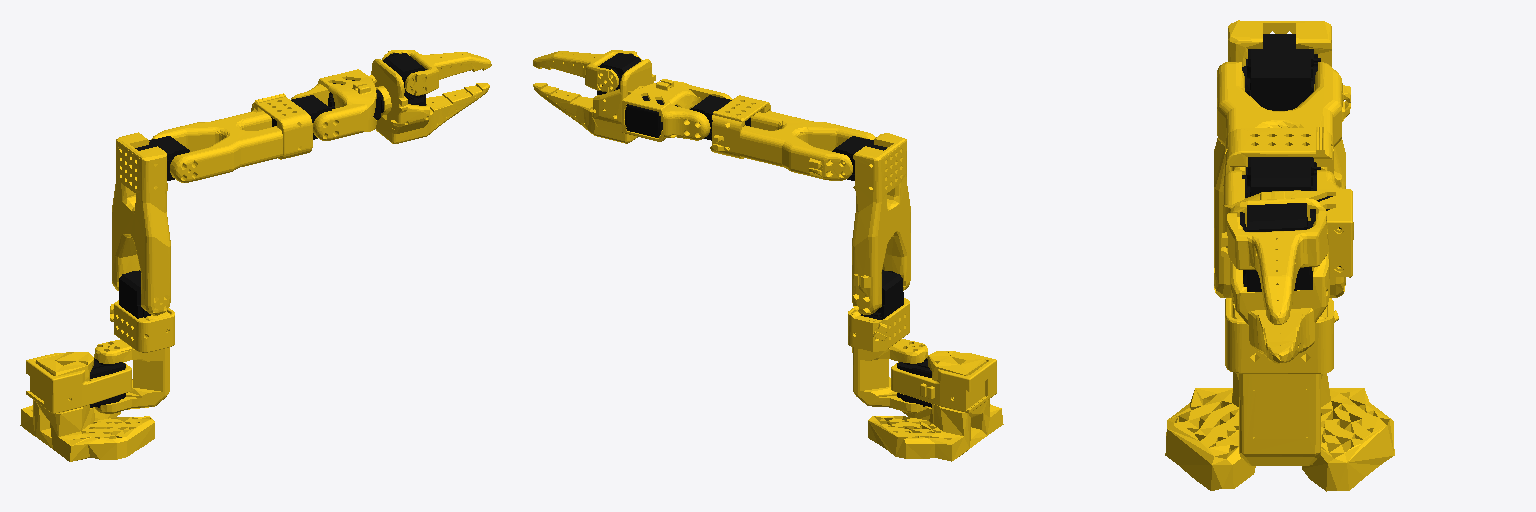
URDF robot description (so101_new_calib):
<?xml version="1.0" encoding="utf-8"?>
<!-- Generated using onshape-to-robot -->
<!-- Onshape https://cad.onshape.com/documents/7715cc284bb430fe6dab4ffd/w/4fd0791b683777b02f8d975a/e/826c553ede3b7592eb9ca800 -->
<robot name="so101_new_calib">

  <!-- Materials -->
  <material name="3d_printed">
    <color rgba="1.0 0.82 0.12 1.0"/>
  </material>
  <material name="sts3215">
    <color rgba="0.1 0.1 0.1 1.0"/>
  </material>

  <!-- Link base -->
  <link name="base_link">
    <inertial>
      <origin xyz="0.0137179 -5.19711e-05 0.0334843" rpy="0 0 0"/>
      <mass value="0.147"/>
      <inertia ixx="0.000114686" ixy="-4.59787e-07" ixz="4.97151e-06" iyy="0.000136117" iyz="9.75275e-08" izz="0.000130364"/>
    </inertial>
    <!-- Part base_motor_holder_so101_v1 -->
    <visual>
      <origin xyz="-0.00636471 -9.94414e-05 -0.0024" rpy="1.5708 -1.67685e-15 1.5708"/>
      <geometry>
        <mesh filename="assets/base_motor_holder_so101_v1_lp.stl"/>
      </geometry>
      <material name="3d_printed"/>
    </visual>
    <collision>
      <origin xyz="-0.00636471 -9.94414e-05 -0.0024" rpy="1.5708 -1.67685e-15 1.5708"/>
      <geometry>
        <mesh filename="assets/base_motor_holder_so101_v1.stl"/>
      </geometry>
    </collision>
    <!-- Part base_so101_v2 -->
    <visual>
      <origin xyz="-0.00636471 -8.97657e-09 -0.0024" rpy="1.5708 -2.78073e-29 1.5708"/>
      <geometry>
        <mesh filename="assets/base_so101_v2_lp.stl"/>
      </geometry>
      <material name="3d_printed"/>
    </visual>
    <collision>
      <origin xyz="-0.00636471 -8.97657e-09 -0.0024" rpy="1.5708 -2.78073e-29 1.5708"/>
      <geometry>
        <mesh filename="assets/base_so101_v2.stl"/>
      </geometry>
    </collision>
    <!-- Part sts3215_03a_v1 -->
    <visual>
      <origin xyz="0.0263353 -8.97657e-09 0.0437" rpy="-8.21148e-16 7.84513e-18 1.249e-15"/>
      <geometry>
        <mesh filename="assets/sts3215_03a_v1_lp.stl"/>
      </geometry>
      <material name="sts3215"/>
    </visual>
    <collision>
      <origin xyz="0.0263353 -8.97657e-09 0.0437" rpy="-8.21148e-16 7.84513e-18 1.249e-15"/>
      <geometry>
        <mesh filename="assets/sts3215_03a_v1.stl"/>
      </geometry>
    </collision>
    <!-- Part waveshare_mounting_plate_so101_v2 -->
    <visual>
      <origin xyz="-0.0309827 -0.000199441 0.0474" rpy="1.5708 -1.35493e-14 1.5708"/>
      <geometry>
        <mesh filename="assets/waveshare_mounting_plate_so101_v2.stl"/>
      </geometry>
      <material name="3d_printed"/>
    </visual>
    <collision>
      <origin xyz="-0.0309827 -0.000199441 0.0474" rpy="1.5708 -1.35493e-14 1.5708"/>
      <geometry>
        <mesh filename="assets/waveshare_mounting_plate_so101_v2.stl"/>
      </geometry>
    </collision>
  </link>

  <!-- Link shoulder -->
  <link name="shoulder_link">
    <inertial>
      <origin xyz="-0.0307604 -1.66727e-05 -0.0252713" rpy="0 0 0"/>
      <mass value="0.100006"/>
      <inertia ixx="8.3759e-05" ixy="7.55525e-08" ixz="-1.16342e-06" iyy="8.10403e-05" iyz="1.54663e-07" izz="2.39783e-05"/>
    </inertial>
    <!-- Part sts3215_03a_v1_2 -->
    <visual>
      <origin xyz="-0.0303992 0.000422241 -0.0417" rpy="1.5708 1.5708 0"/>
      <geometry>
        <mesh filename="assets/sts3215_03a_v1_lp.stl"/>
      </geometry>
      <material name="sts3215"/>
    </visual>
    <collision>
      <origin xyz="-0.0303992 0.000422241 -0.0417" rpy="1.5708 1.5708 0"/>
      <geometry>
        <mesh filename="assets/sts3215_03a_v1.stl"/>
      </geometry>
    </collision>
    <!-- Part motor_holder_so101_base_v1 -->
    <visual>
      <origin xyz="-0.0675992 -0.000177759 0.0158499" rpy="1.5708 -1.5708 0"/>
      <geometry>
        <mesh filename="assets/motor_holder_so101_base_v1_lp.stl"/>
      </geometry>
      <material name="3d_printed"/>
    </visual>
    <collision>
      <origin xyz="-0.0675992 -0.000177759 0.0158499" rpy="1.5708 -1.5708 0"/>
      <geometry>
        <mesh filename="assets/motor_holder_so101_base_v1.stl"/>
      </geometry>
    </collision>
    <!-- Part rotation_pitch_so101_v1 -->
    <visual>
      <origin xyz="0.0122008 2.22413e-05 0.0464" rpy="-1.5708 2.35221e-33 0"/>
      <geometry>
        <mesh filename="assets/rotation_pitch_so101_v1_lp.stl"/>
      </geometry>
      <material name="3d_printed"/>
    </visual>
    <collision>
      <origin xyz="0.0122008 2.22413e-05 0.0464" rpy="-1.5708 2.35221e-33 0"/>
      <geometry>
        <mesh filename="assets/rotation_pitch_so101_v1.stl"/>
      </geometry>
    </collision>
  </link>

  <!-- Link upper_arm -->
  <link name="upper_arm_link">
    <inertial>
      <origin xyz="-0.0898471 -0.00838224 0.0184089" rpy="0 0 0"/>
      <mass value="0.103"/>
      <inertia ixx="4.08002e-05" ixy="-1.97819e-05" ixz="-4.03016e-08" iyy="0.000147318" iyz="8.97326e-09" izz="0.000142487"/>
    </inertial>
    <!-- Part sts3215_03a_v1_3 -->
    <visual>
      <origin xyz="-0.11257 -0.0155 0.0187" rpy="-3.14159 -5.27356e-16 -1.5708"/>
      <geometry>
        <mesh filename="assets/sts3215_03a_v1_lp.stl"/>
      </geometry>
      <material name="sts3215"/>
    </visual>
    <collision>
      <origin xyz="-0.11257 -0.0155 0.0187" rpy="-3.14159 -5.27356e-16 -1.5708"/>
      <geometry>
        <mesh filename="assets/sts3215_03a_v1.stl"/>
      </geometry>
    </collision>
    <!-- Part upper_arm_so101_v1 -->
    <visual>
      <origin xyz="-0.065085 0.012 0.0182" rpy="3.14159 -0 -1.30911e-30"/>
      <geometry>
        <mesh filename="assets/upper_arm_so101_v1_lp.stl"/>
      </geometry>
      <material name="3d_printed"/>
    </visual>
    <collision>
      <origin xyz="-0.065085 0.012 0.0182" rpy="3.14159 -0 -1.30911e-30"/>
      <geometry>
        <mesh filename="assets/upper_arm_so101_v1.stl"/>
      </geometry>
    </collision>
  </link>

  <!-- Link lower_arm -->
  <link name="lower_arm_link">
    <inertial>
      <origin xyz="-0.0980701 0.00324376 0.0182831" rpy="0 0 0"/>
      <mass value="0.104"/>
      <inertia ixx="2.87438e-05" ixy="7.41152e-06" ixz="1.26409e-06" iyy="0.000159844" iyz="-4.90188e-08" izz="0.00014529"/>
    </inertial>
    <!-- Part under_arm_so101_v1 -->
    <visual>
      <origin xyz="-0.0648499 -0.032 0.0182" rpy="3.14159 -0 6.67202e-31"/>
      <geometry>
        <mesh filename="assets/under_arm_so101_v1_lp.stl"/>
      </geometry>
      <material name="3d_printed"/>
    </visual>
    <collision>
      <origin xyz="-0.0648499 -0.032 0.0182" rpy="3.14159 -0 6.67202e-31"/>
      <geometry>
        <mesh filename="assets/under_arm_so101_v1.stl"/>
      </geometry>
    </collision>
    <!-- Part motor_holder_so101_wrist_v1 -->
    <visual>
      <origin xyz="-0.0648499 -0.032 0.018" rpy="-3.14159 -2.55351e-15 -1.83387e-30"/>
      <geometry>
        <mesh filename="assets/motor_holder_so101_wrist_v1_lp.stl"/>
      </geometry>
      <material name="3d_printed"/>
    </visual>
    <collision>
      <origin xyz="-0.0648499 -0.032 0.018" rpy="-3.14159 -2.55351e-15 -1.83387e-30"/>
      <geometry>
        <mesh filename="assets/motor_holder_so101_wrist_v1.stl"/>
      </geometry>
    </collision>
    <!-- Part sts3215_03a_v1_4 -->
    <visual>
      <origin xyz="-0.1224 0.0052 0.0187" rpy="-3.14159 -7.88861e-31 -3.14159"/>
      <geometry>
        <mesh filename="assets/sts3215_03a_v1_lp.stl"/>
      </geometry>
      <material name="sts3215"/>
    </visual>
    <collision>
      <origin xyz="-0.1224 0.0052 0.0187" rpy="-3.14159 -7.88861e-31 -3.14159"/>
      <geometry>
        <mesh filename="assets/sts3215_03a_v1.stl"/>
      </geometry>
    </collision>
  </link>

  <!-- Link wrist -->
  <link name="wrist_link">
    <inertial>
      <origin xyz="-0.000103312 -0.0386143 0.0281156" rpy="0 0 0"/>
      <mass value="0.079"/>
      <inertia ixx="3.68263e-05" ixy="1.7893e-08" ixz="-5.28128e-08" iyy="2.5391e-05" iyz="3.6412e-06" izz="2.1e-05"/>
    </inertial>
    <!-- Part sts3215_03a_no_horn_v1 -->
    <visual>
      <origin xyz="8.32667e-17 -0.0424 0.0306" rpy="1.5708 1.5708 0"/>
      <geometry>
        <mesh filename="assets/sts3215_03a_no_horn_v1_lp.stl"/>
      </geometry>
      <material name="sts3215"/>
    </visual>
    <collision>
      <origin xyz="8.32667e-17 -0.0424 0.0306" rpy="1.5708 1.5708 0"/>
      <geometry>
        <mesh filename="assets/sts3215_03a_no_horn_v1.stl"/>
      </geometry>
    </collision>
    <!-- Part wrist_roll_pitch_so101_v2 -->
    <visual>
      <origin xyz="0 -0.028 0.0181" rpy="-1.5708 -1.5708 0"/>
      <geometry>
        <mesh filename="assets/wrist_roll_pitch_so101_v2_lp.stl"/>
      </geometry>
      <material name="3d_printed"/>
    </visual>
    <collision>
      <origin xyz="0 -0.028 0.0181" rpy="-1.5708 -1.5708 0"/>
      <geometry>
        <mesh filename="assets/wrist_roll_pitch_so101_v2.stl"/>
      </geometry>
    </collision>
  </link>

  <!-- Link gripper -->
  <link name="gripper_link">
    <inertial>
      <origin xyz="0.000213627 0.000245138 -0.025187" rpy="0 0 0"/>
      <mass value="0.087"/>
      <inertia ixx="2.75087e-05" ixy="-3.35241e-07" ixz="-5.7352e-06" iyy="4.33657e-05" iyz="-5.17847e-08" izz="3.45059e-05"/>
    </inertial>
    <!-- Part sts3215_03a_v1_5 -->
    <visual>
      <origin xyz="0.0077 0.0001 -0.0234" rpy="-1.5708 -5.19179e-17 -1.66533e-16"/>
      <geometry>
        <mesh filename="assets/sts3215_03a_v1_lp.stl"/>
      </geometry>
      <material name="sts3215"/>
    </visual>
    <collision>
      <origin xyz="0.0077 0.0001 -0.0234" rpy="-1.5708 -5.19179e-17 -1.66533e-16"/>
      <geometry>
        <mesh filename="assets/sts3215_03a_v1.stl"/>
      </geometry>
    </collision>
    <!-- Part wrist_roll_follower_so101_v1 -->
    <visual>
      <origin xyz="8.32667e-17 -0.000218214 0.000949706" rpy="-3.14159 -5.55112e-17 0"/>
      <geometry>
        <mesh filename="assets/wrist_roll_follower_so101_v1_lp.stl"/>
      </geometry>
      <material name="3d_printed"/>
    </visual>
    <collision>
      <origin xyz="8.32667e-17 -0.000218214 0.000949706" rpy="-3.14159 -5.55112e-17 0"/>
      <geometry>
        <!-- fixed finger: coacd-DECOMPOSED collision (multi-object OBJ) so the grasp face/notch
             survive instead of a single 2.58x-fat convex hull. Visual stays the STL.
             Regenerated by assets/so101/build_jaw_collision.py -->
        <mesh filename="assets/wrist_roll_follower_so101_v1_col.obj"/>
      </geometry>
    </collision>
  </link>

  <!-- Gripper frame (dummy link + fixed joint) -->
  <link name="gripper_frame_link">
    <origin xyz="0 0 0" rpy="0 -0 0"/>
    <inertial>
      <origin xyz="0 0 0" rpy="0 0 0"/>
      <mass value="1e-9"/>
      <inertia ixx="0" ixy="0" ixz="0" iyy="0" iyz="0" izz="0"/>
    </inertial>
  </link>

  <joint name="gripper_frame_joint" type="fixed">
    <origin xyz="-0.0079 -0.000218121 -0.0981274" rpy="0 3.14159 0"/>
    <parent link="gripper_link"/>
    <child link="gripper_frame_link"/>
    <axis xyz="0 0 0"/>
  </joint>

  <!-- Link moving_jaw_so101_v1 -->
  <link name="moving_jaw_so101_v1_link">
    <inertial>
      <origin xyz="-0.00157495 -0.0300244 0.0192755" rpy="0 0 0"/>
      <mass value="0.012"/>
      <inertia ixx="6.61427e-06" ixy="-3.19807e-07" ixz="-5.90717e-09" iyy="1.89032e-06" iyz="-1.09945e-07" izz="5.28738e-06"/>
    </inertial>
    <!-- Part moving_jaw_so101_v1 -->
    <visual>
      <origin xyz="-5.55112e-17 -5.55112e-17 0.0189" rpy="9.53145e-17 6.93889e-18 1.24077e-24"/>
      <geometry>
        <mesh filename="assets/moving_jaw_so101_v1_lp.stl"/>
      </geometry>
      <material name="3d_printed"/>
    </visual>
    <collision>
      <origin xyz="-5.55112e-17 -5.55112e-17 0.0189" rpy="9.53145e-17 6.93889e-18 1.24077e-24"/>
      <geometry>
        <!-- moving finger: coacd-DECOMPOSED collision (multi-object OBJ).
             Regenerated by assets/so101/build_jaw_collision.py -->
        <mesh filename="assets/moving_jaw_so101_v1_col.obj"/>
      </geometry>
    </collision>
  </link>

  <!-- Joint from gripper to moving_jaw_so101_v1 -->
  <joint name="gripper" type="revolute">
    <origin xyz="0.0202 0.0188 -0.0234" rpy="1.5708 -5.24284e-08 -1.41553e-15"/>
    <parent link="gripper_link"/>
    <child link="moving_jaw_so101_v1_link"/>
    <axis xyz="0 0 1"/>
    <limit effort="10" velocity="10" lower="-0.174533" upper="1.74533"/>
  </joint>

  <transmission name="gripper_trans">
    <type>transmission_interface/SimpleTransmission</type>
    <joint name="gripper">
      <hardwareInterface>hardware_interface/PositionJointInterface</hardwareInterface>
    </joint>
    <actuator name="motor6">
      <hardwareInterface>hardware_interface/PositionJointInterface</hardwareInterface>
      <mechanicalReduction>1</mechanicalReduction>
    </actuator>
  </transmission>

  <!-- Joint from wrist to gripper -->
  <joint name="wrist_roll" type="revolute">
    <origin xyz="5.55112e-17 -0.0611 0.0181" rpy="1.5708 0.0486795 3.14159"/>
    <parent link="wrist_link"/>
    <child link="gripper_link"/>
    <axis xyz="0 0 1"/>
    <limit effort="10" velocity="10" lower="-2.74385" upper="2.84121"/>
  </joint>

  <transmission name="wrist_roll_trans">
    <type>transmission_interface/SimpleTransmission</type>
    <joint name="wrist_roll">
      <hardwareInterface>hardware_interface/PositionJointInterface</hardwareInterface>
    </joint>
    <actuator name="motor5">
      <hardwareInterface>hardware_interface/PositionJointInterface</hardwareInterface>
      <mechanicalReduction>1</mechanicalReduction>
    </actuator>
  </transmission>

  <!-- Joint from lower_arm to wrist -->
  <joint name="wrist_flex" type="revolute">
    <origin xyz="-0.1349 0.0052 3.62355e-17" rpy="4.02456e-15 8.67362e-16 -1.5708"/>
    <parent link="lower_arm_link"/>
    <child link="wrist_link"/>
    <axis xyz="0 0 1"/>
    <limit effort="10" velocity="10" lower="-1.65806" upper="1.78"/>
  </joint>

  <transmission name="wrist_flex_trans">
    <type>transmission_interface/SimpleTransmission</type>
    <joint name="wrist_flex">
      <hardwareInterface>hardware_interface/PositionJointInterface</hardwareInterface>
    </joint>
    <actuator name="motor4">
      <hardwareInterface>hardware_interface/PositionJointInterface</hardwareInterface>
      <mechanicalReduction>1</mechanicalReduction>
    </actuator>
  </transmission>

  <!-- Joint from upper_arm to lower_arm -->
  <!-- Note: 5-degree calibration offset applied to joint limits -->
  <joint name="elbow_flex" type="revolute">
    <origin xyz="-0.11257 -0.028 1.73763e-16" rpy="-3.63608e-16 8.74301e-16 1.5708"/>
    <parent link="upper_arm_link"/>
    <child link="lower_arm_link"/>
    <axis xyz="0 0 1"/>
    <limit effort="10" velocity="10" lower="-1.69" upper="1.69"/>
  </joint>

  <transmission name="elbow_flex_trans">
    <type>transmission_interface/SimpleTransmission</type>
    <joint name="elbow_flex">
      <hardwareInterface>hardware_interface/PositionJointInterface</hardwareInterface>
    </joint>
    <actuator name="motor3">
      <hardwareInterface>hardware_interface/PositionJointInterface</hardwareInterface>
      <mechanicalReduction>1</mechanicalReduction>
    </actuator>
  </transmission>

  <!-- Joint from shoulder to upper_arm -->
  <joint name="shoulder_lift" type="revolute">
    <origin xyz="-0.0303992 -0.0182778 -0.0542" rpy="-1.5708 -1.5708 0"/>
    <parent link="shoulder_link"/>
    <child link="upper_arm_link"/>
    <axis xyz="0 0 1"/>
    <limit effort="10" velocity="10" lower="-1.74533" upper="1.74533"/>
  </joint>

  <transmission name="shoulder_lift_trans">
    <type>transmission_interface/SimpleTransmission</type>
    <joint name="shoulder_lift">
      <hardwareInterface>hardware_interface/PositionJointInterface</hardwareInterface>
    </joint>
    <actuator name="motor2">
      <hardwareInterface>hardware_interface/PositionJointInterface</hardwareInterface>
      <mechanicalReduction>1</mechanicalReduction>
    </actuator>
  </transmission>

  <!-- Joint from base to shoulder -->
  <joint name="shoulder_pan" type="revolute">
    <origin xyz="0.0388353 -8.97657e-09 0.0624" rpy="3.14159 4.18253e-17 -3.14159"/>
    <parent link="base_link"/>
    <child link="shoulder_link"/>
    <axis xyz="0 0 1"/>
    <limit effort="10" velocity="10" lower="-1.91986" upper="1.91986"/>
  </joint>

  <transmission name="shoulder_pan_trans">
    <type>transmission_interface/SimpleTransmission</type>
    <joint name="shoulder_pan">
      <hardwareInterface>hardware_interface/PositionJointInterface</hardwareInterface>
    </joint>
    <actuator name="motor1">
      <hardwareInterface>hardware_interface/PositionJointInterface</hardwareInterface>
      <mechanicalReduction>1</mechanicalReduction>
    </actuator>
  </transmission> 

</robot>

--- Facts derived from the render (not from the file) ---
3 views of the same robot in one strip: view 1: azimuth 30°, elevation 25°; view 2: azimuth 150°, elevation 25°; view 3: azimuth 270°, elevation 25° (orthographic).
Robot: so101_new_calib — 8 links, 7 joints (6 revolute, 1 fixed); root link base_link; default pose: every joint at zero.
Links seen in each view (by area): view 1: base_link, upper_arm_link, lower_arm_link, shoulder_link, gripper_link, wrist_link, moving_jaw_so101_v1_link; view 2: base_link, upper_arm_link, lower_arm_link, shoulder_link, wrist_link, gripper_link, moving_jaw_so101_v1_link; view 3: base_link, lower_arm_link, shoulder_link, upper_arm_link, gripper_link, moving_jaw_so101_v1_link, wrist_link.
Boxes of the visible links, bbox=[...] form: base_link: bbox=[20, 352, 154, 461]; upper_arm_link: bbox=[112, 132, 189, 315]; lower_arm_link: bbox=[151, 93, 331, 182]; shoulder_link: bbox=[94, 270, 174, 413]; gripper_link: bbox=[371, 53, 489, 143]; wrist_link: bbox=[291, 69, 383, 140]; moving_jaw_so101_v1_link: bbox=[382, 50, 491, 95]; base_link: bbox=[868, 351, 1003, 461]; upper_arm_link: bbox=[832, 133, 910, 314]; lower_arm_link: bbox=[690, 95, 875, 180]; shoulder_link: bbox=[848, 270, 927, 413]; wrist_link: bbox=[622, 79, 732, 141]; gripper_link: bbox=[533, 53, 655, 143]; moving_jaw_so101_v1_link: bbox=[533, 50, 641, 92]; base_link: bbox=[1165, 372, 1394, 491]; lower_arm_link: bbox=[1217, 62, 1350, 197]; shoulder_link: bbox=[1225, 298, 1338, 465]; upper_arm_link: bbox=[1214, 20, 1353, 297]; gripper_link: bbox=[1221, 198, 1329, 363]; moving_jaw_so101_v1_link: bbox=[1227, 209, 1327, 324]; wrist_link: bbox=[1223, 170, 1352, 277].
Size in the robot's own frame: 0.4257 by 0.1106 by 0.2681 metres.
Meshes: 13 distinct files referenced, 16 mesh visuals loaded (12 binary STL); not drawn: 1 (reference not matched to a file when rendering).
